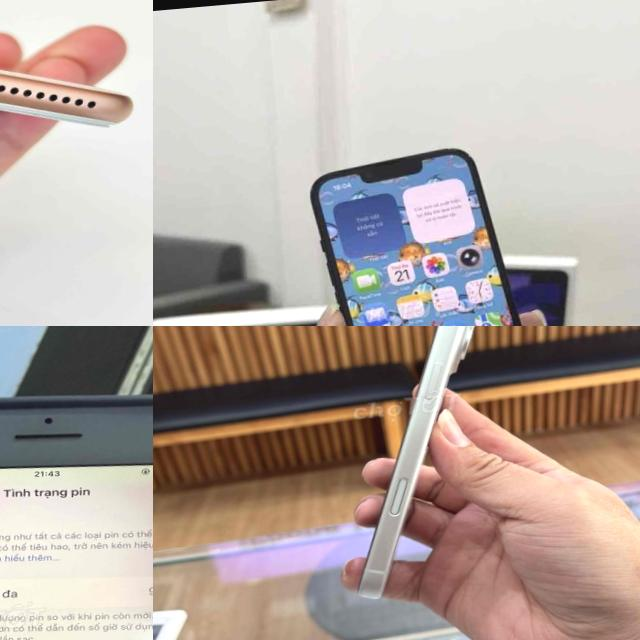gen_14: (307, 135, 557, 326)
gen_17: (325, 326, 529, 614)
gen_7_8: (0, 371, 153, 640), (0, 0, 140, 174)
